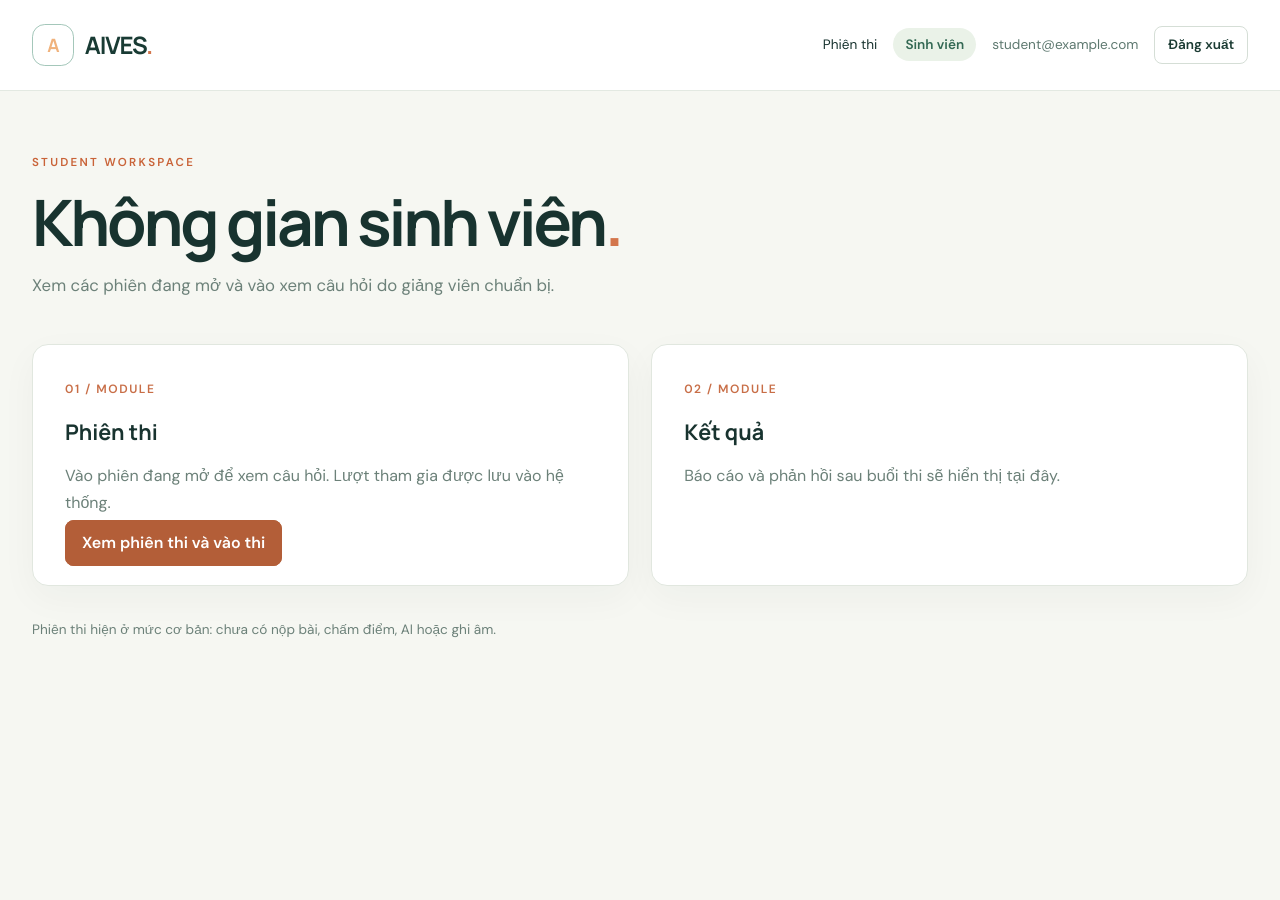
Authentication and role routes › returns to login after logout responds with 204
Expected: the heading "Không gian sinh viên." is shown, [32,178,621,265]
Click the button "Đăng xuất": coordinates (1201, 45) [1154,26,1248,64]
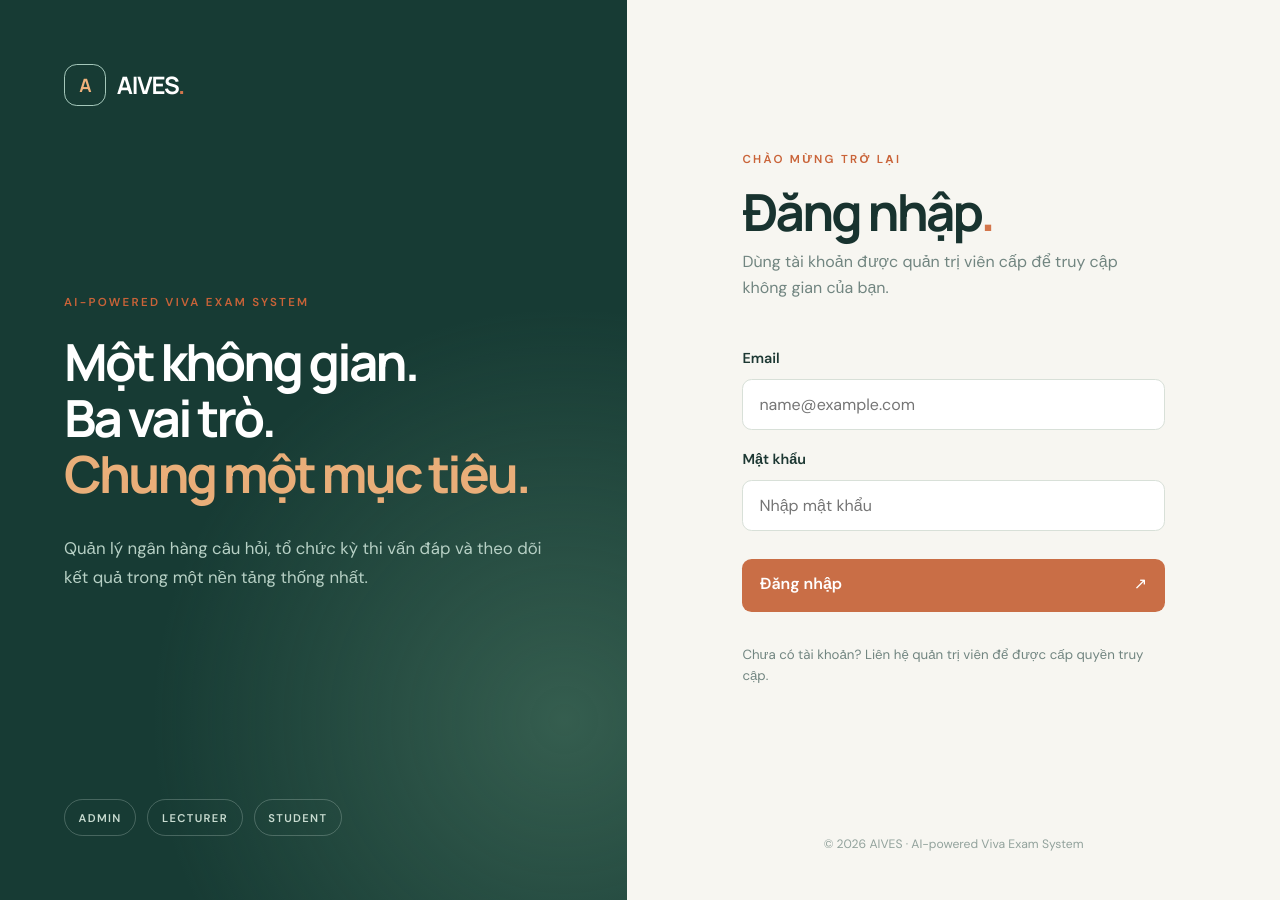
Now the heading "Đăng nhập." is shown, box [742,176,993,246]
